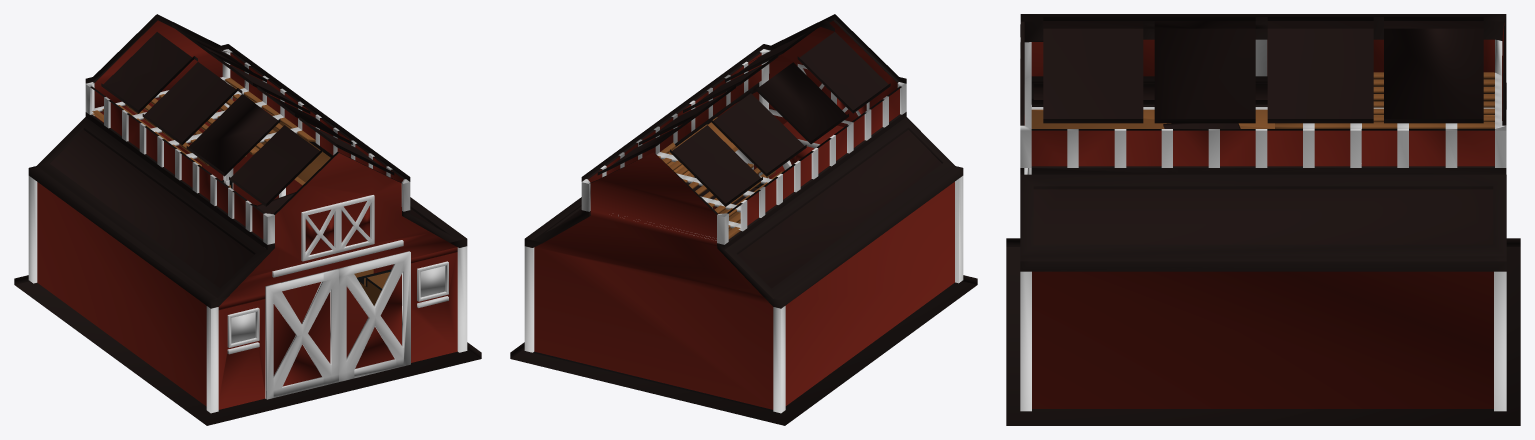
Rendered from Barn.obj.
3 views of the same model, side by side, from view 1: azimuth 30°, elevation 25°; view 2: azimuth 150°, elevation 25°; view 3: azimuth 270°, elevation 25° (orthographic). The views are drawn at different scales.
Parts seen in each view (by area): view 1: Barn, MainDoorNegX, MainDoorPosX, Tablas; view 2: Barn, Tablas; view 3: Barn, Tablas.
Boxes of the visible parts, left/top/right/bottom form: Barn: left=14, top=14, right=481, bottom=425; MainDoorNegX: left=265, top=268, right=338, bottom=399; MainDoorPosX: left=338, top=251, right=410, bottom=381; Tablas: left=92, top=77, right=315, bottom=166; Barn: left=510, top=14, right=977, bottom=425; Tablas: left=618, top=142, right=782, bottom=240; Barn: left=1006, top=14, right=1520, bottom=425; Tablas: left=1275, top=72, right=1502, bottom=128.
Bounding box in the file's own units: 73.69 × 61.93 × 89.52.
